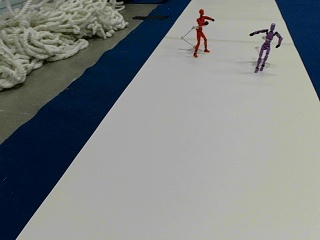pedestrian: (249, 23, 282, 72), (193, 8, 214, 57)
